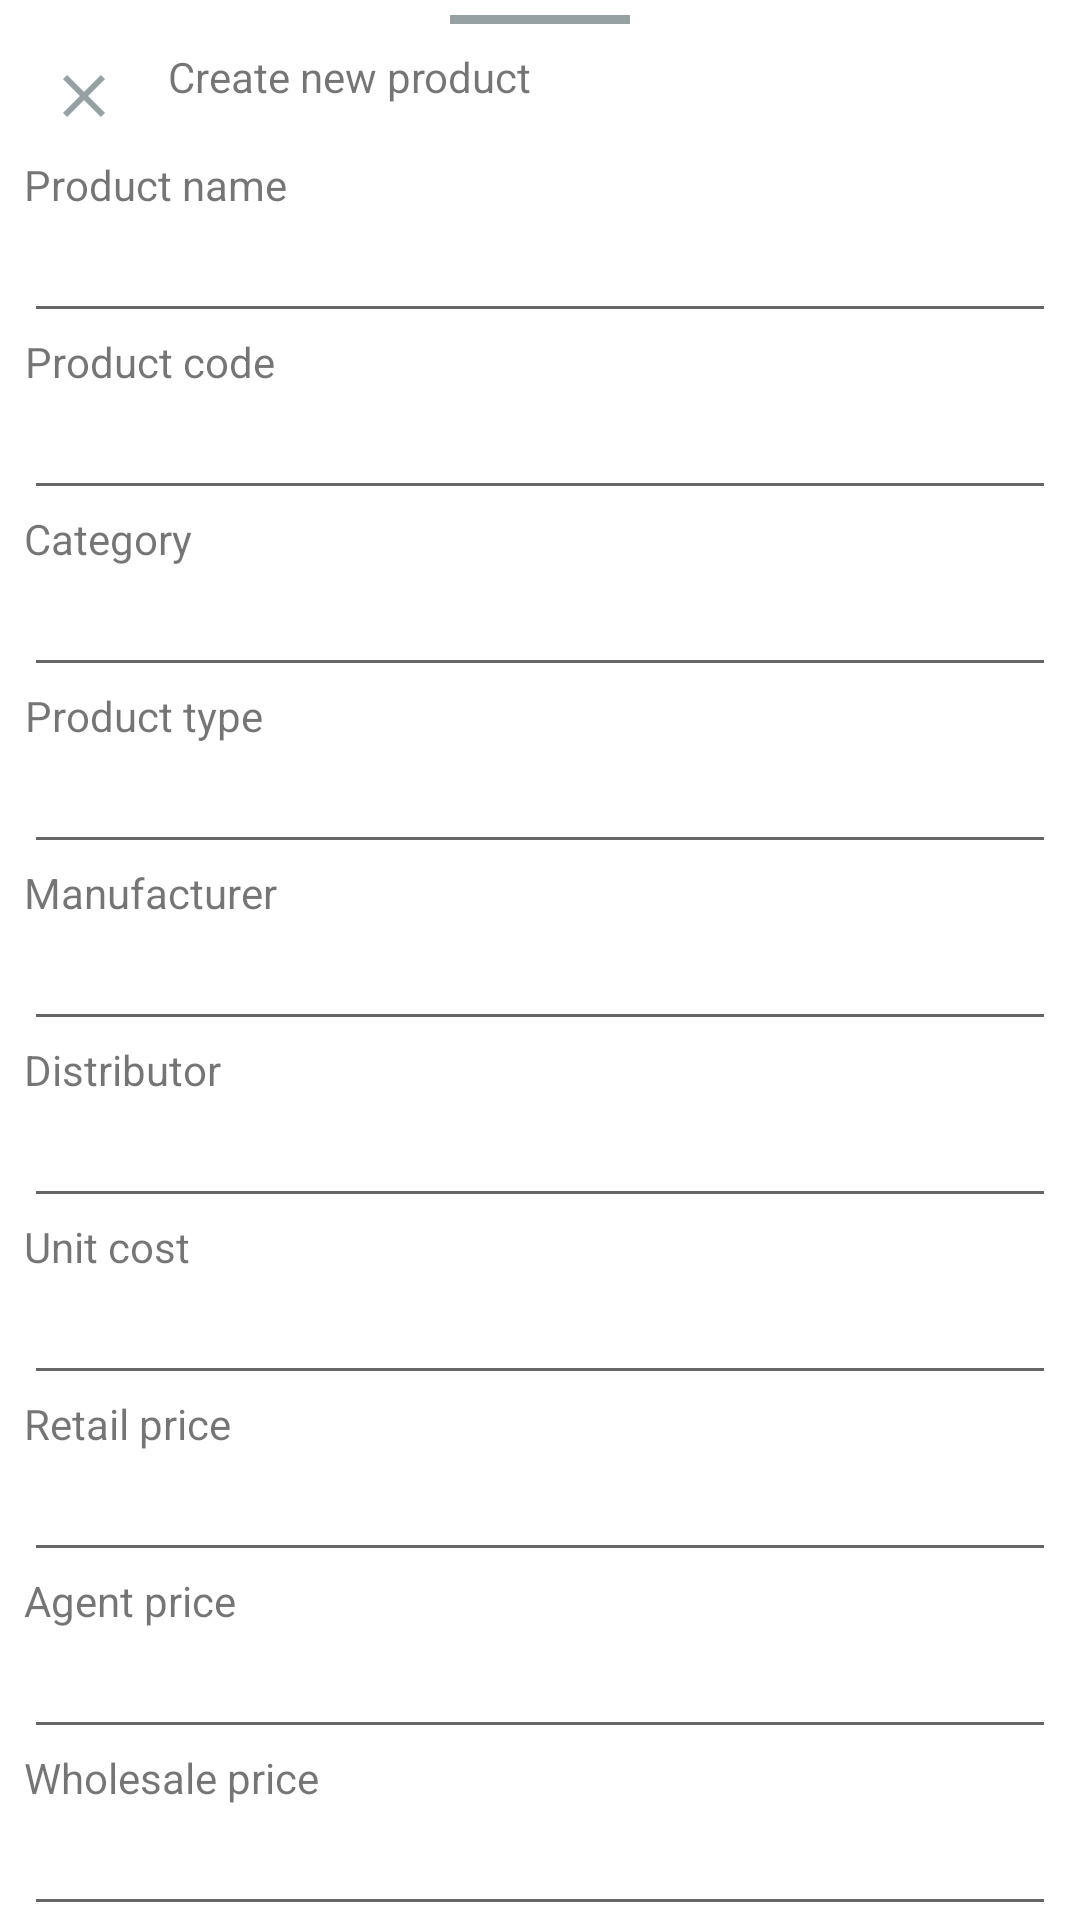

Locate icon controls on the screen. Image size 1080 x 1920, boxes as (x1, y1, x2, y2).
close: (63, 75, 105, 117)
